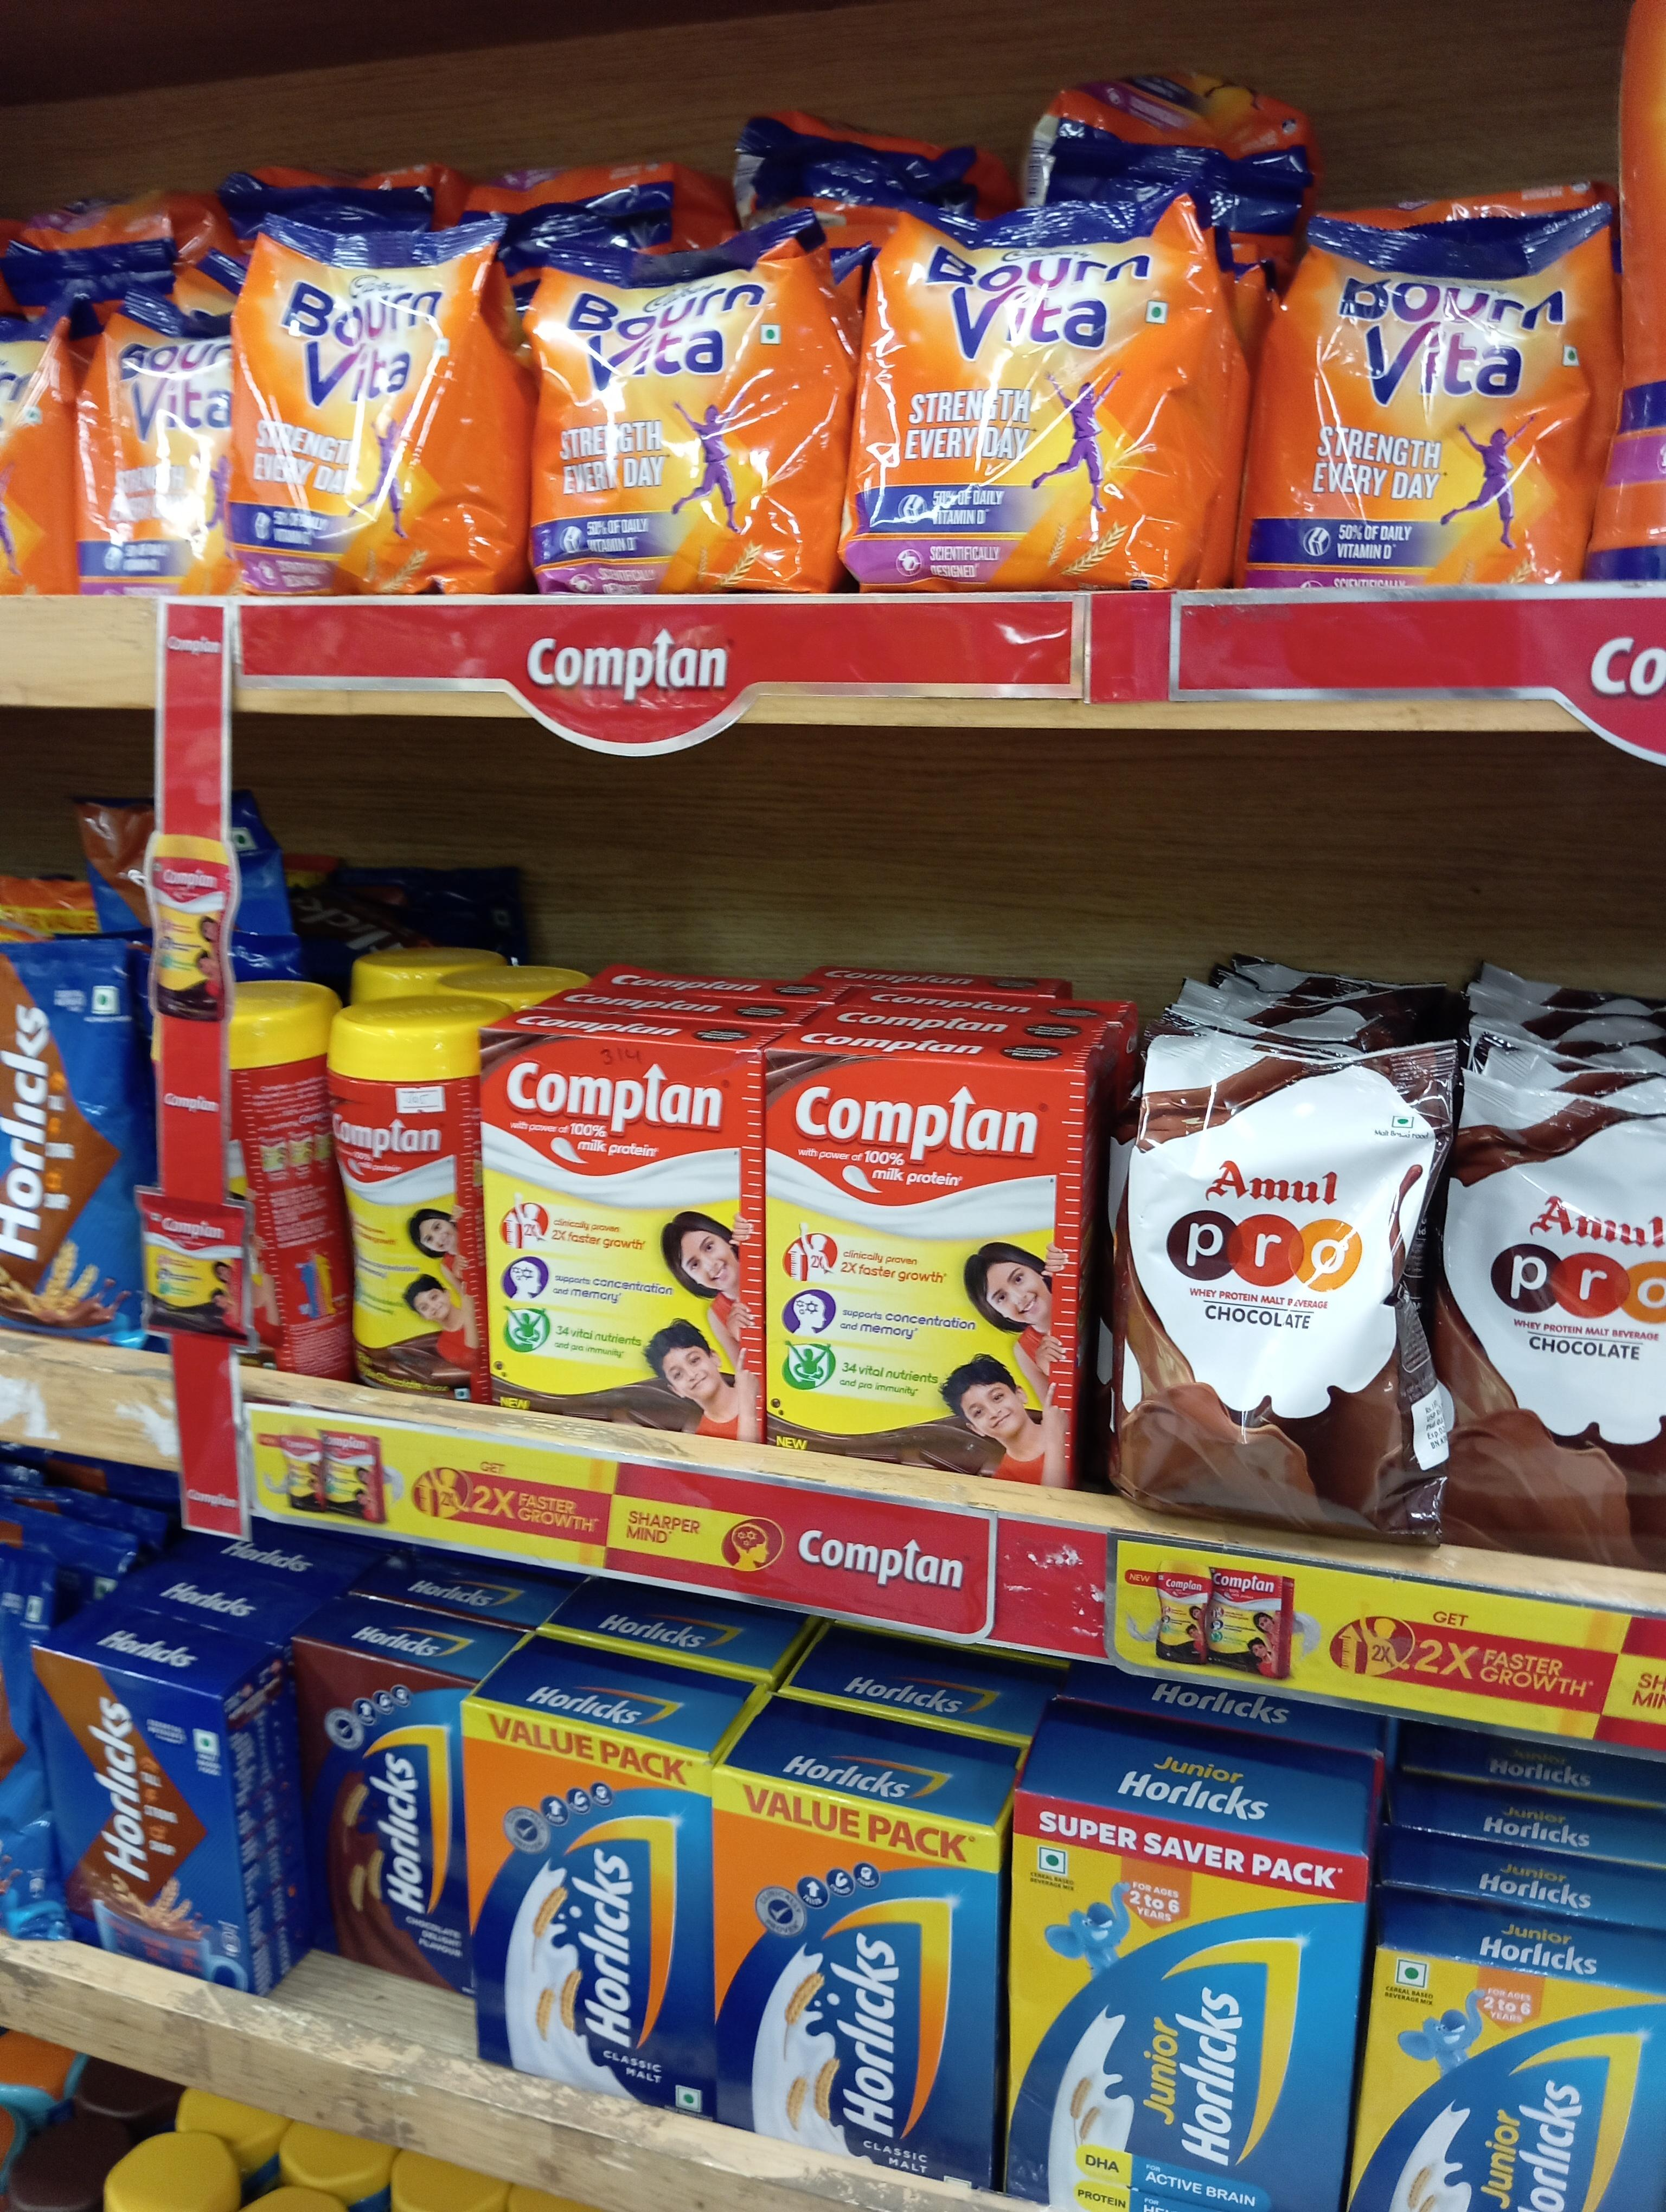BOURN_VITA_500_G_POUCH: (865, 194, 1211, 586), (1270, 201, 1580, 575), (532, 240, 835, 589), (235, 215, 506, 595)
COMPLAN_CHOCOLATE_500_GMS_JAR: (329, 1000, 481, 1399)
COMPLAN_CHOCOLATE_500_GMS_PACK: (770, 1053, 1069, 1492), (490, 1032, 754, 1441)
HORLICK_CHOCOLATE_500_G_PACK: (60, 1656, 236, 1944)
